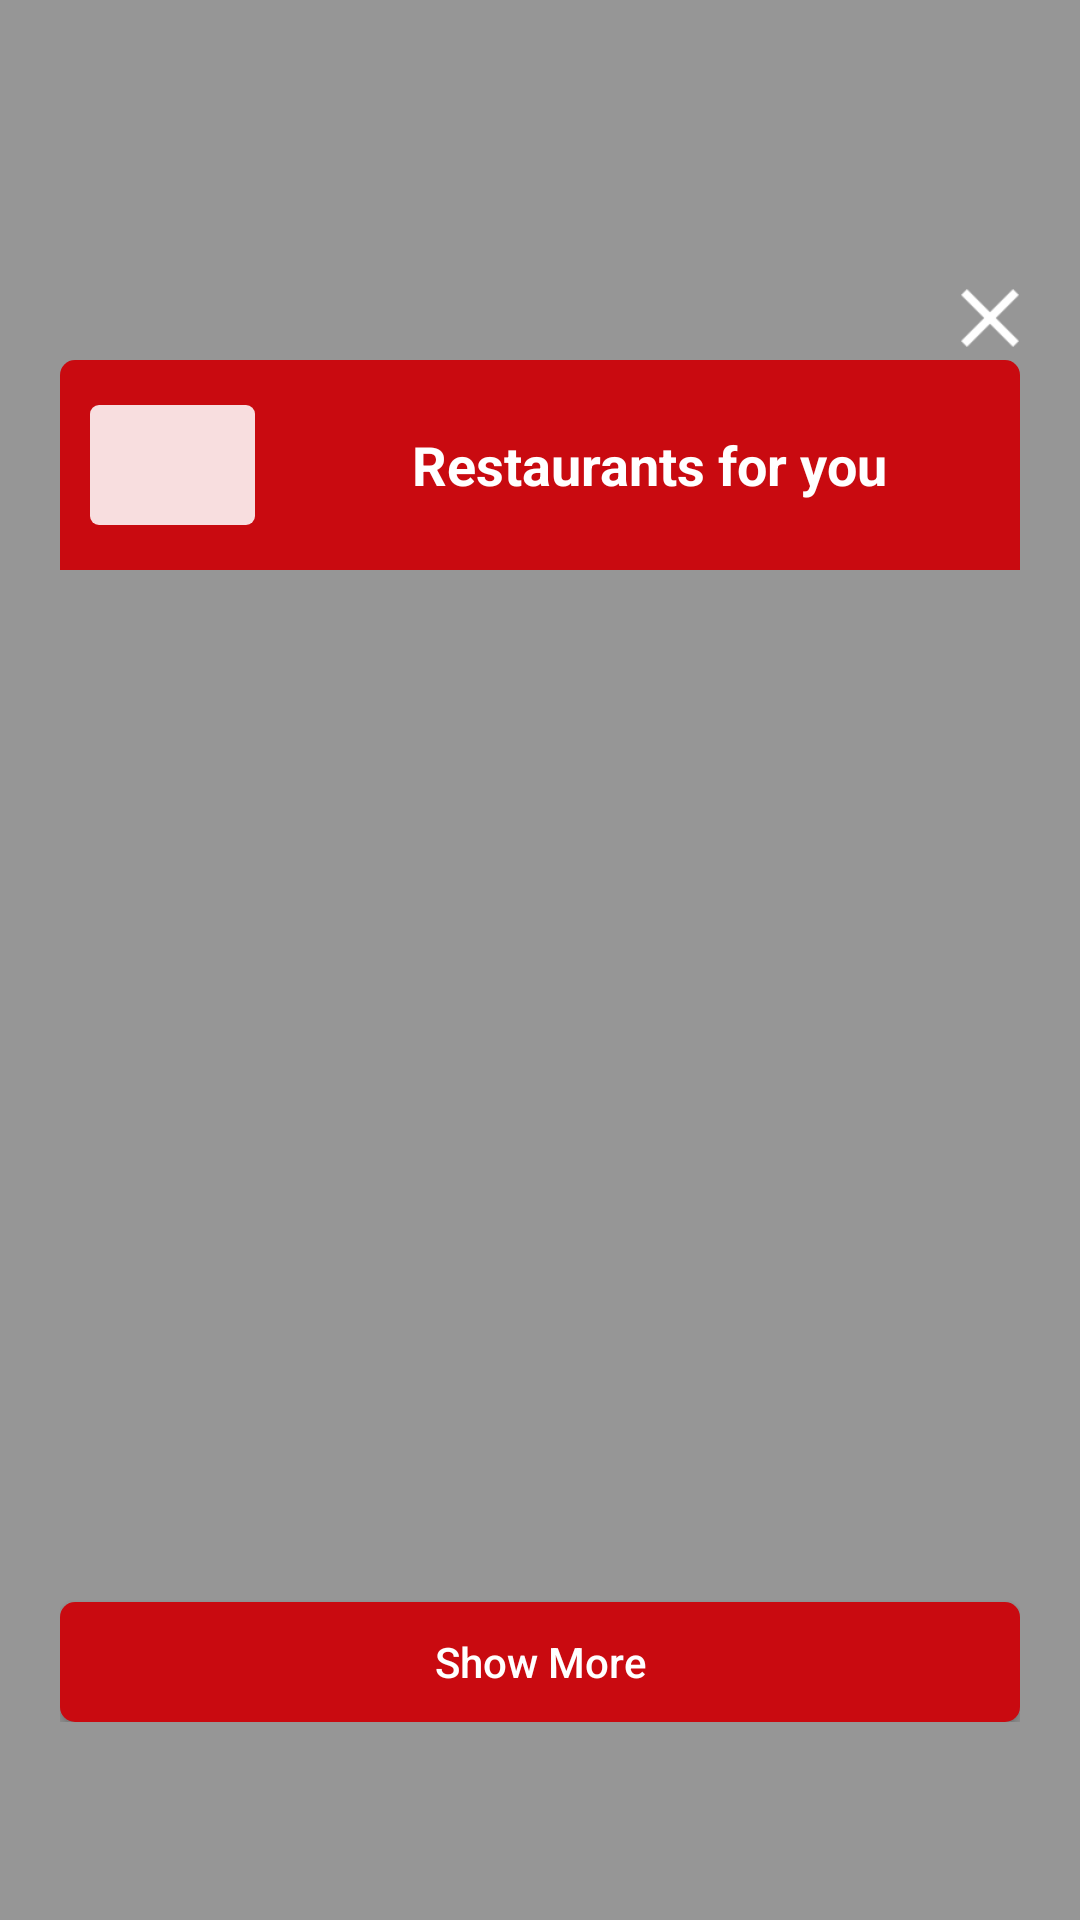

Named icons in this screenshot (1080px×1920px) and their centers, (x,y):
close: (990,318)
